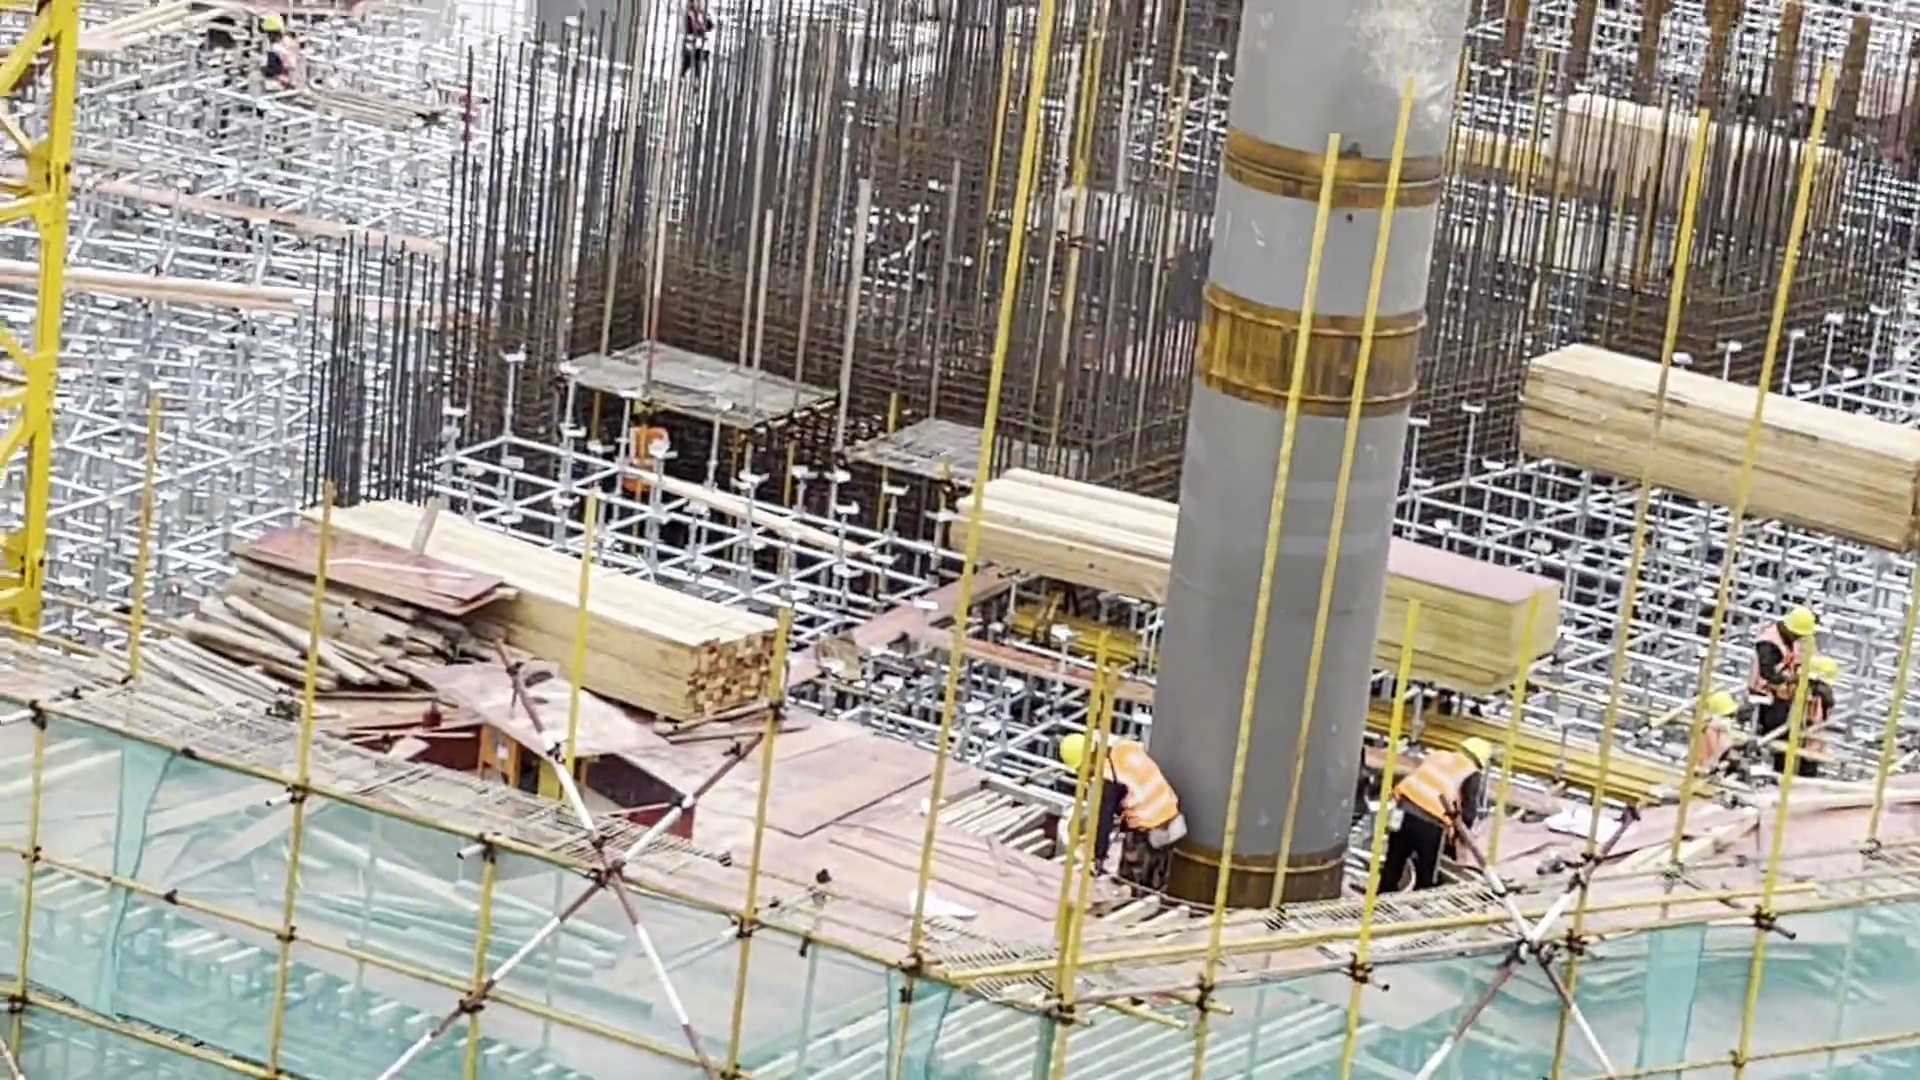helmet: (1461, 719, 1512, 778), (1786, 595, 1820, 643), (1059, 728, 1092, 778), (1705, 680, 1735, 724), (1803, 654, 1835, 684)
person: (1045, 723, 1188, 875), (1391, 732, 1493, 907), (1748, 601, 1817, 699)
vest: (1092, 757, 1181, 821), (1396, 751, 1482, 816), (1754, 626, 1799, 677), (265, 40, 306, 76)
